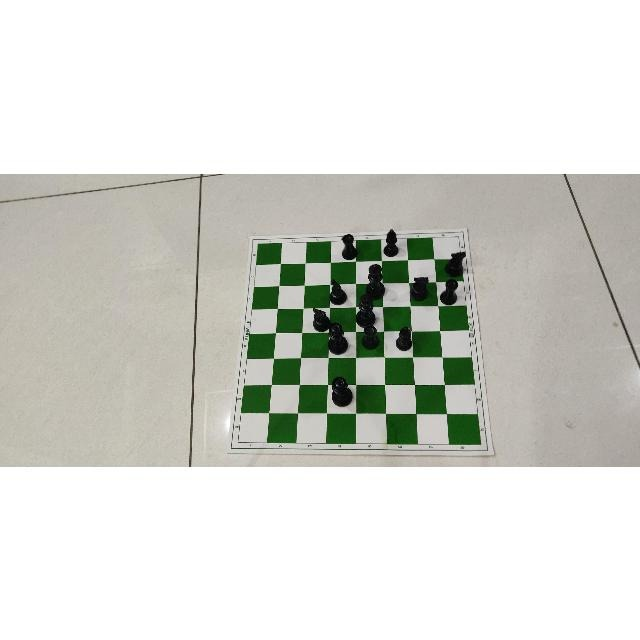black-bishop: (383, 227, 401, 257), (395, 323, 413, 350)
black-king: (363, 263, 386, 299), (356, 293, 377, 327)
black-knight: (445, 249, 468, 275), (329, 276, 349, 303), (311, 305, 331, 331), (410, 274, 430, 300)
black-queen: (329, 372, 355, 407), (328, 321, 348, 353)
black-rook: (440, 277, 460, 306), (340, 232, 359, 261), (360, 325, 381, 349)
